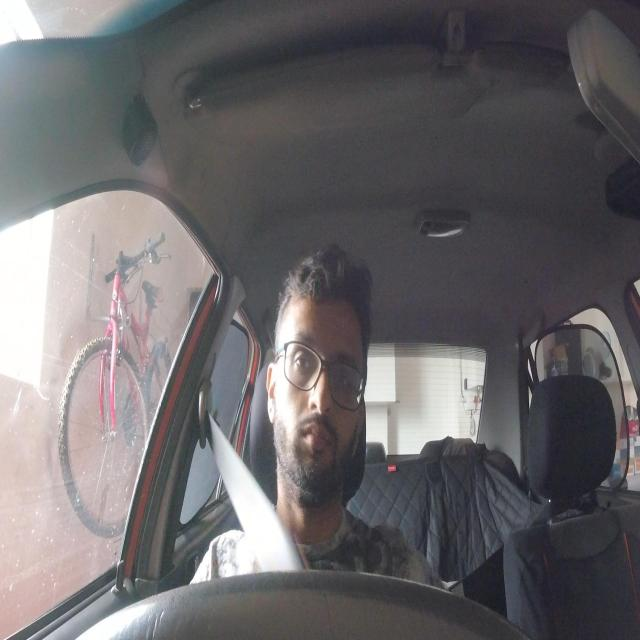open: (288, 330, 322, 390)
